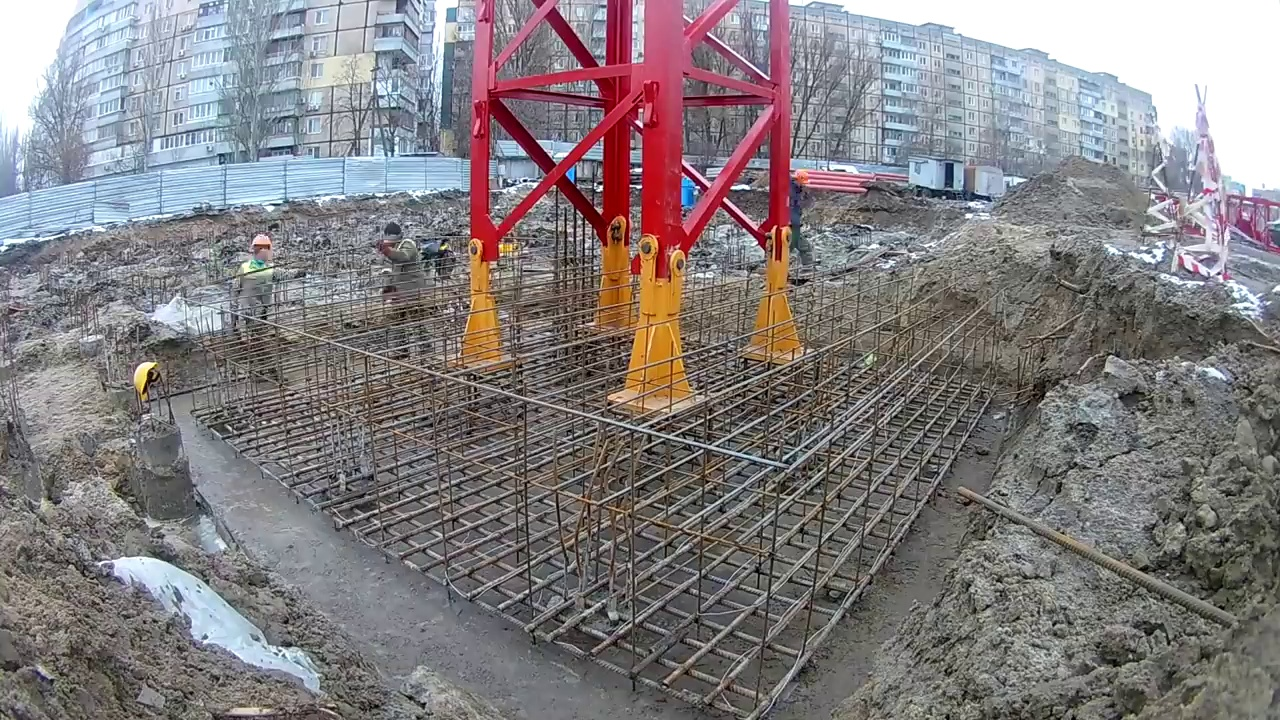helmet: (251, 233, 272, 253), (795, 172, 809, 184)
helmet-off: (381, 226, 404, 247)
helmet-on: (248, 233, 274, 267), (795, 171, 809, 189)
person: (227, 233, 278, 375), (381, 222, 435, 356), (782, 171, 810, 267)
